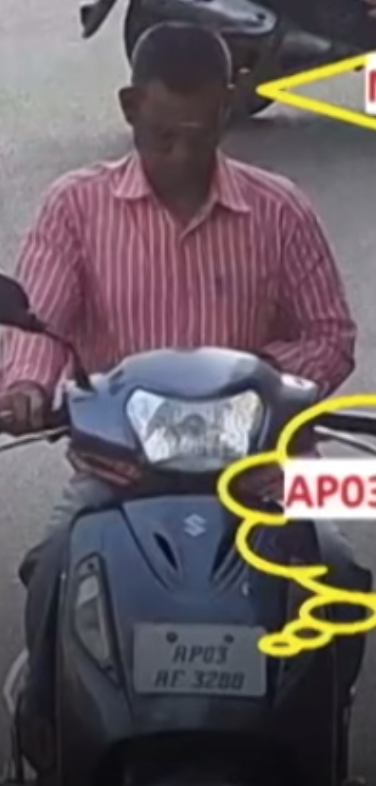h_bike: (18, 48, 363, 786)
h_nohelmet: (117, 21, 237, 198)
numplate: (130, 618, 270, 706)
